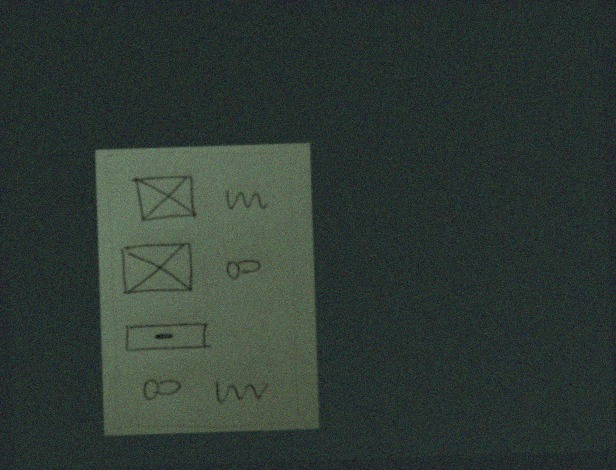button: (122, 319, 213, 357)
image: (117, 241, 196, 300), (127, 170, 201, 227)
switch: (138, 375, 184, 406), (223, 254, 263, 285)
text: (211, 376, 270, 409), (221, 183, 269, 217)
